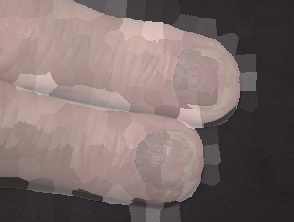Nail_psoriasis: (121, 112, 211, 203), (170, 46, 237, 114)
